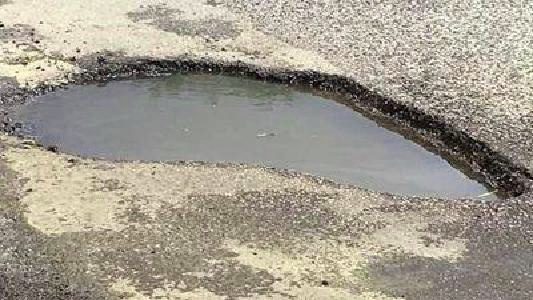pothole: (0, 56, 528, 205)
